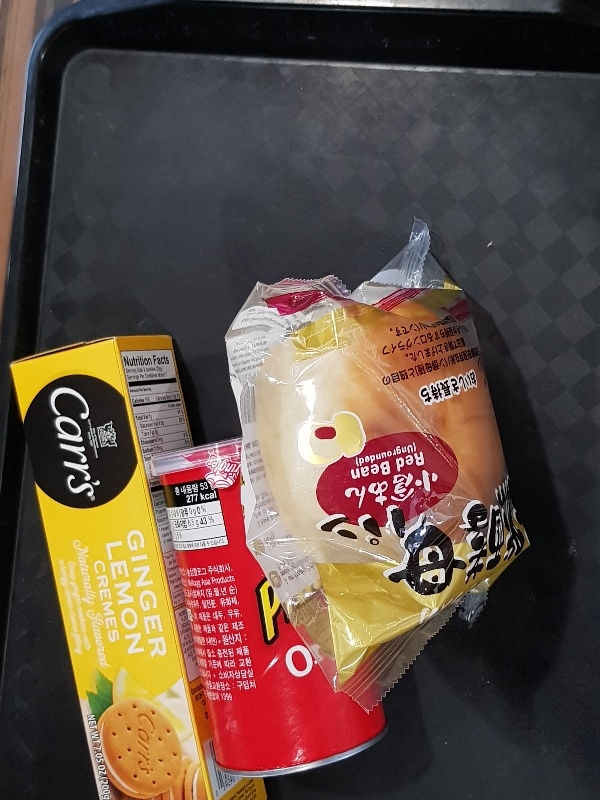Carr's Ginger Lemon Cremes: (10, 334, 269, 800)
Dayplus Red Bean: (225, 213, 534, 713)
Pringles Original: (148, 433, 392, 782)
